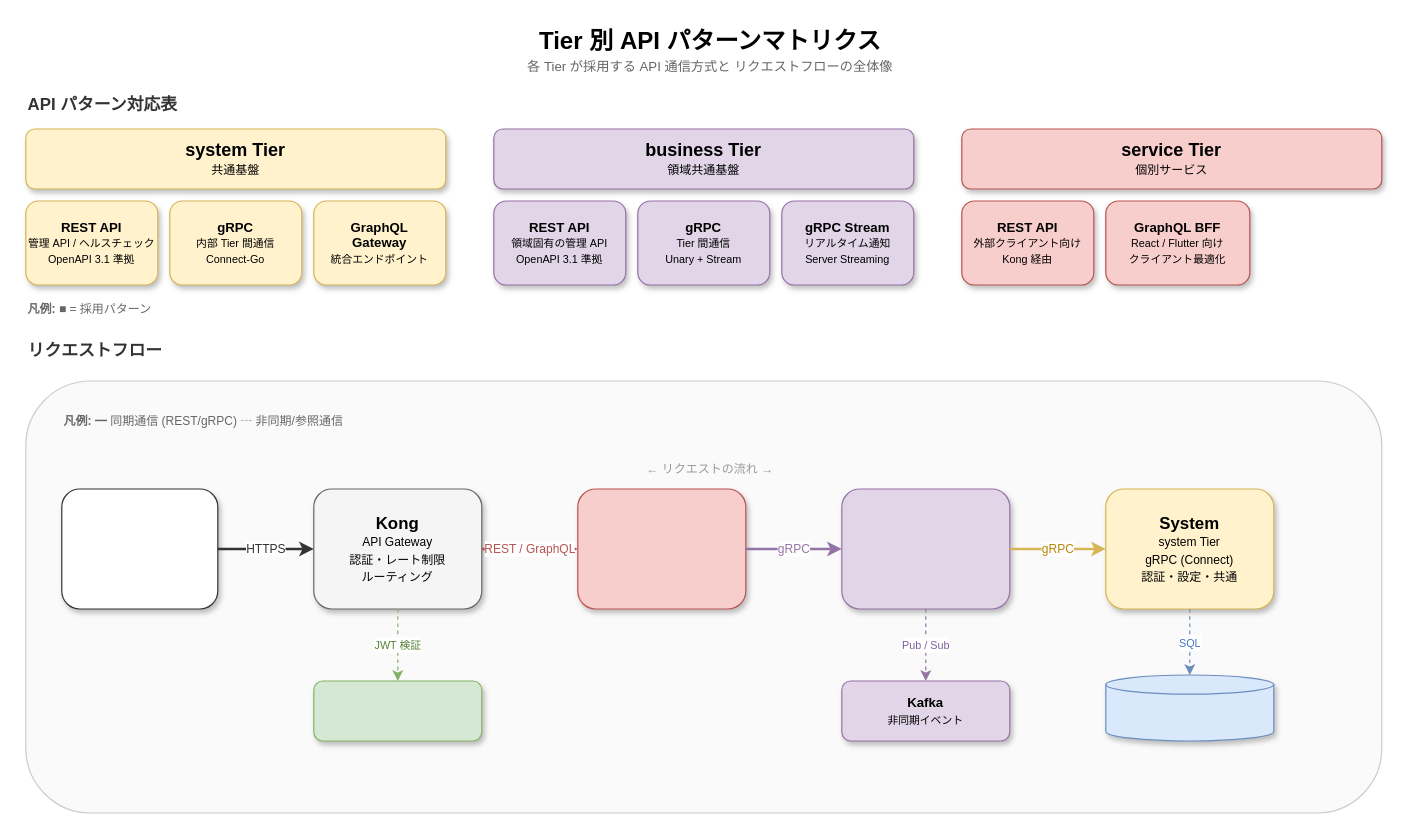
This 1410x834 diagram has some shape labels left out. Each missing label, with the centre of its shape:
"BFF service Tier GraphQL / REST 集約 + 変換" goes at point 662,550.
"Business business Tier gRPC (Connect) ドメインロジック" goes at point 926,550.
"Client React SPA Flutter App CLI (Tauri)" goes at point 140,550.
"Keycloak IdP / Token 発行" goes at point 398,712.
"PostgreSQL 各サーバー専用 DB" goes at point 1190,709.
